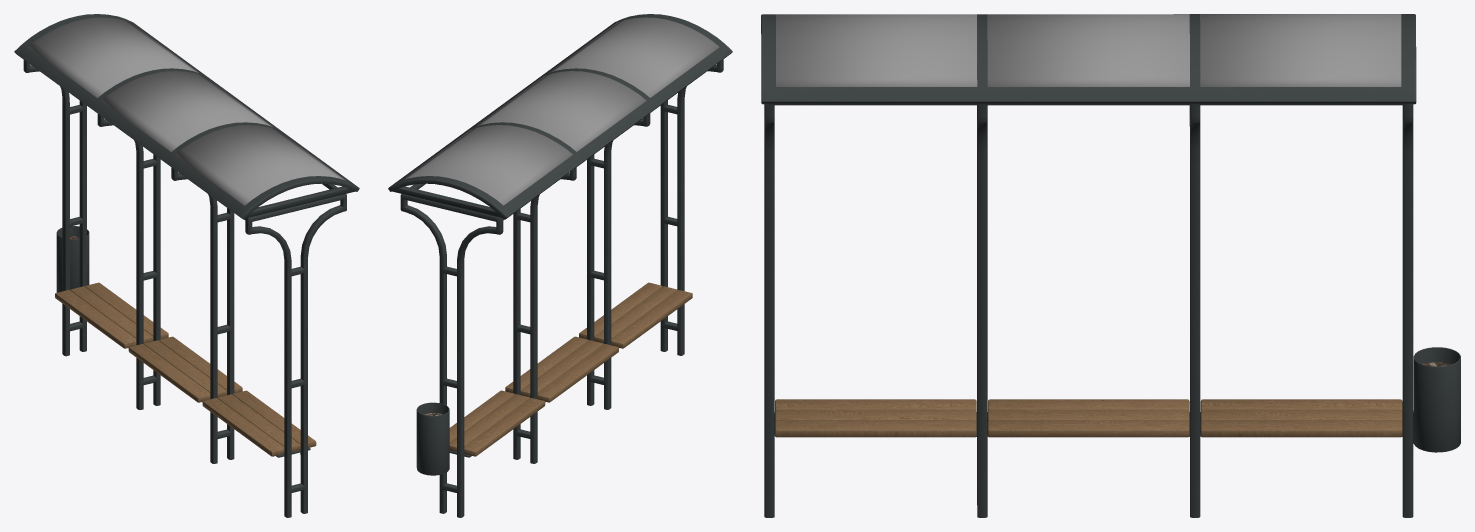
The picture shows the model from 3 angles, left to right: view 1: azimuth 30°, elevation 25°; view 2: azimuth 150°, elevation 25°; view 3: azimuth 270°, elevation 25°; orthographic projection. The views are drawn at different scales.
Visible parts, largest first — view 1: SM_BusStop_Shelter_A; view 2: SM_BusStop_Shelter_A; view 3: SM_BusStop_Shelter_A.
Boxes of the visible parts, x1,y1,x2,y2 form: SM_BusStop_Shelter_A: (14, 14, 359, 517); SM_BusStop_Shelter_A: (388, 14, 732, 517); SM_BusStop_Shelter_A: (761, 14, 1460, 517).
Size of the model in its own units: 0.9192 by 2.45 by 3.24.
2 materials, 2 textured.
